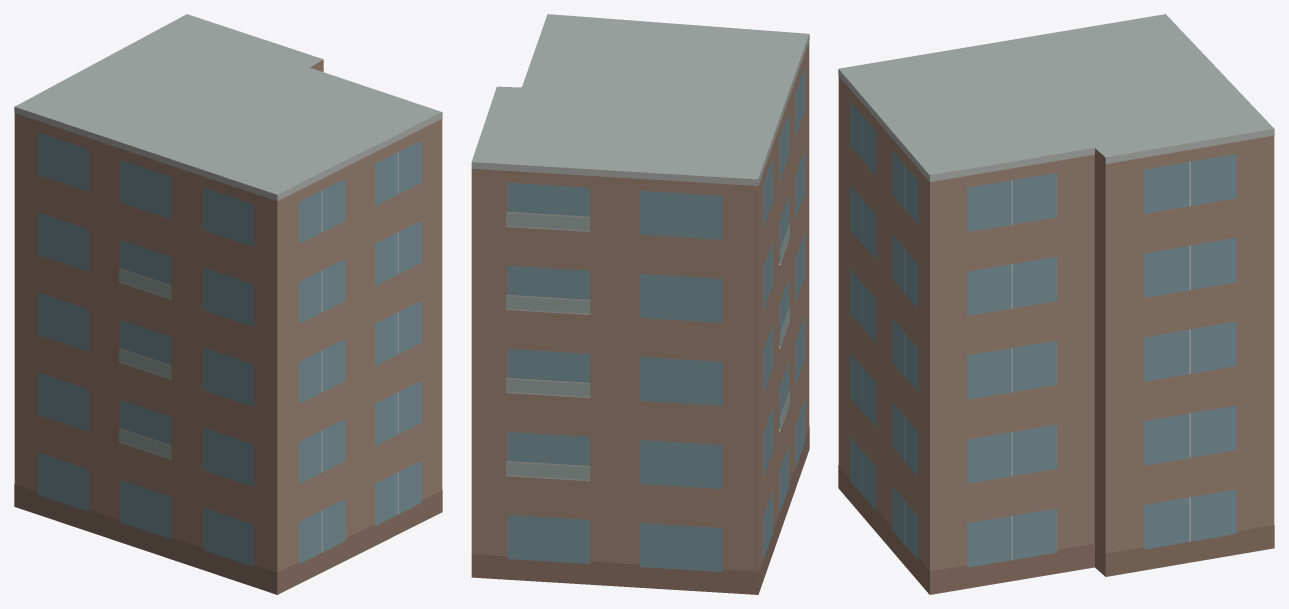
Rendered from survey-upis-32860303.glb.
3 renders of one model, left to right at view 1: azimuth 30°, elevation 25°; view 2: azimuth 150°, elevation 25°; view 3: azimuth 270°, elevation 25°, orthographic. The views are drawn at different scales.
Parts seen in each view (by area): view 1: survey-upis-32860303.tmp; view 2: survey-upis-32860303.tmp; view 3: survey-upis-32860303.tmp.
Part boxes in pixels (box(x1,y1,x2,y2)): survey-upis-32860303.tmp: box(14, 14, 442, 594); survey-upis-32860303.tmp: box(471, 14, 809, 594); survey-upis-32860303.tmp: box(838, 14, 1274, 594).
Bounding box in the file's own units: 12.64 × 15.3 × 14.42.
